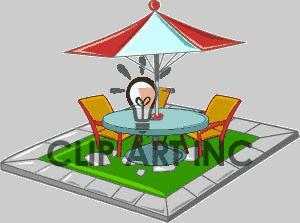chair: (75, 94, 143, 158), (184, 93, 244, 159)
diningtable: (100, 107, 210, 165)
